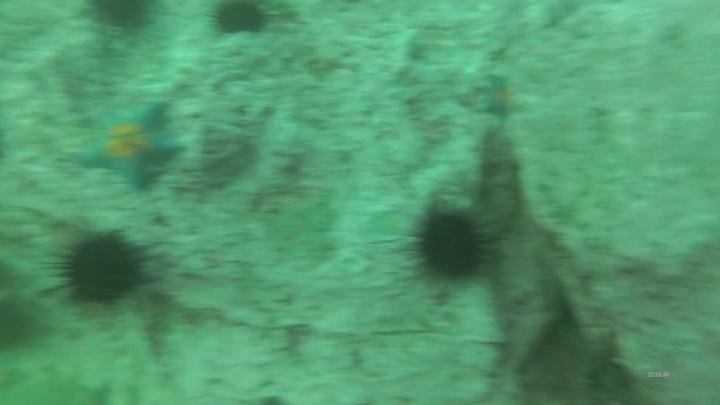echinus: (50, 226, 152, 310), (406, 202, 496, 287), (0, 292, 43, 355), (206, 1, 272, 40), (84, 1, 160, 34)
starfish: (72, 98, 187, 195), (523, 317, 620, 399), (475, 71, 531, 125)
